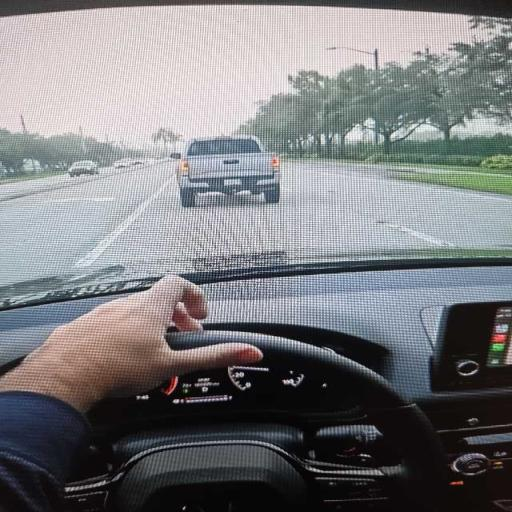car: (0, 0, 511, 511), (68, 161, 99, 177), (114, 158, 132, 168)
lane: (0, 163, 511, 283), (0, 163, 172, 283)
person: (0, 277, 261, 511)
truck: (172, 137, 279, 207)
